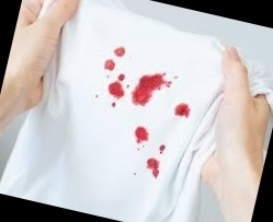blood: (131, 69, 164, 109), (144, 157, 162, 177), (132, 125, 150, 144), (106, 81, 125, 99), (175, 101, 190, 119), (113, 46, 126, 57), (103, 59, 115, 70), (115, 71, 127, 82), (158, 144, 165, 154)
